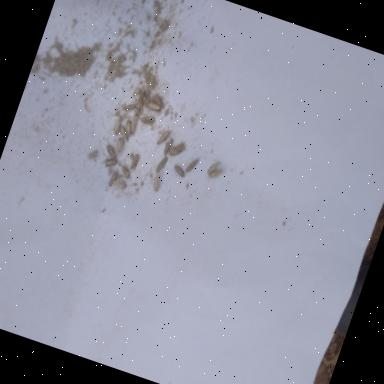pbw: (168, 138, 187, 160), (110, 113, 124, 136), (155, 127, 171, 147), (117, 162, 134, 180), (128, 113, 143, 133), (117, 124, 133, 142), (184, 156, 200, 174), (150, 173, 164, 193), (145, 100, 162, 115), (129, 152, 141, 172), (162, 136, 174, 156), (209, 165, 224, 181), (101, 156, 118, 170), (111, 178, 128, 192), (140, 112, 156, 126), (172, 164, 188, 178), (114, 136, 126, 154), (206, 160, 220, 175), (104, 144, 119, 158), (124, 101, 138, 112)
